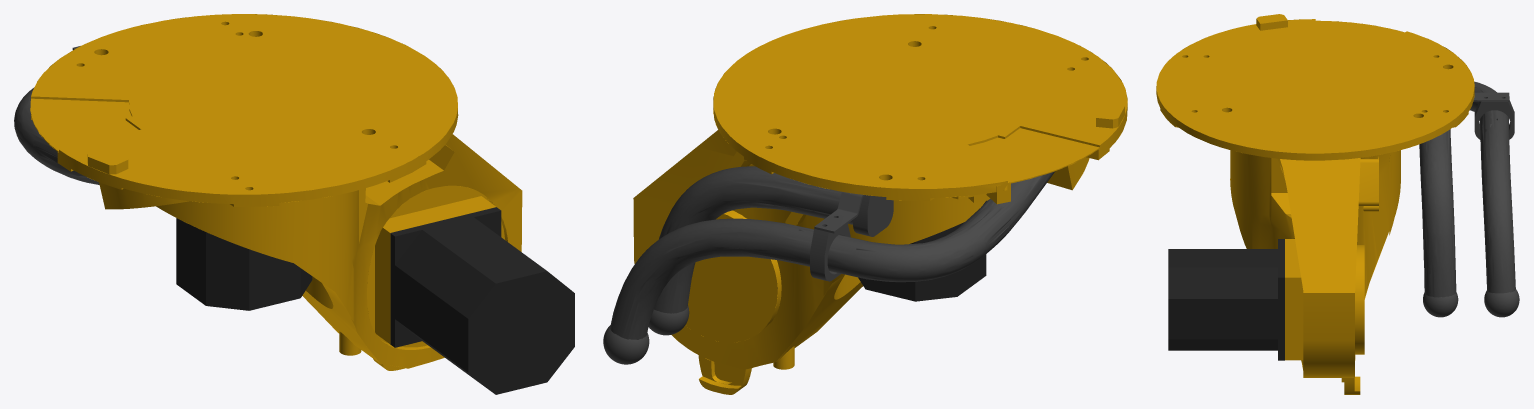
3 renders of one model, left to right at view 1: azimuth 30°, elevation 25°; view 2: azimuth 150°, elevation 25°; view 3: azimuth 270°, elevation 25°, orthographic. The views are drawn at different scales.
Visible parts, largest first — view 1: Link-1; view 2: Link-1; view 3: Link-1.
Boxes of the visible parts, left/top/right/bottom form: Link-1: left=14, top=14, right=574, bottom=394; Link-1: left=603, top=14, right=1127, bottom=394; Link-1: left=1156, top=14, right=1519, bottom=394.
Bounding box in the file's own units: 0.663 × 0.616 × 0.4616.
